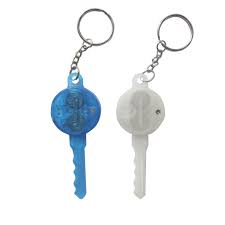kicharina: (114, 71, 166, 204)
